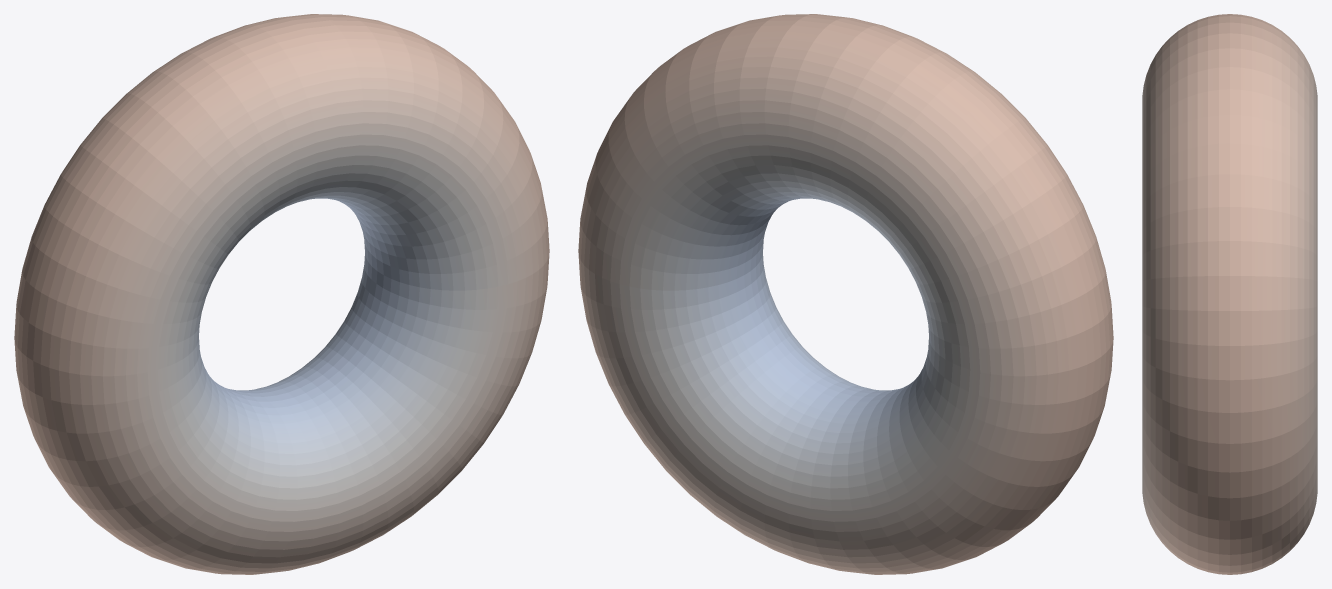
3 renders of one model, left to right at view 1: azimuth 30°, elevation 25°; view 2: azimuth 150°, elevation 25°; view 3: azimuth 270°, elevation 25°, orthographic. The views are drawn at different scales.
Parts seen in each view (by area): view 1: world; view 2: world; view 3: world.
Boxes of the visible parts, x1=… form: world: x1=14, y1=14, x2=549, y2=574; world: x1=578, y1=14, x2=1113, y2=574; world: x1=1142, y1=14, x2=1317, y2=574.
Size of the model in its own units: 24.27 by 24.22 by 7.59.
